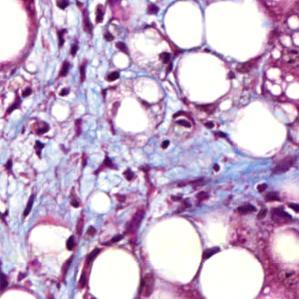steatosis: (143, 219, 206, 282), (173, 53, 229, 106)
